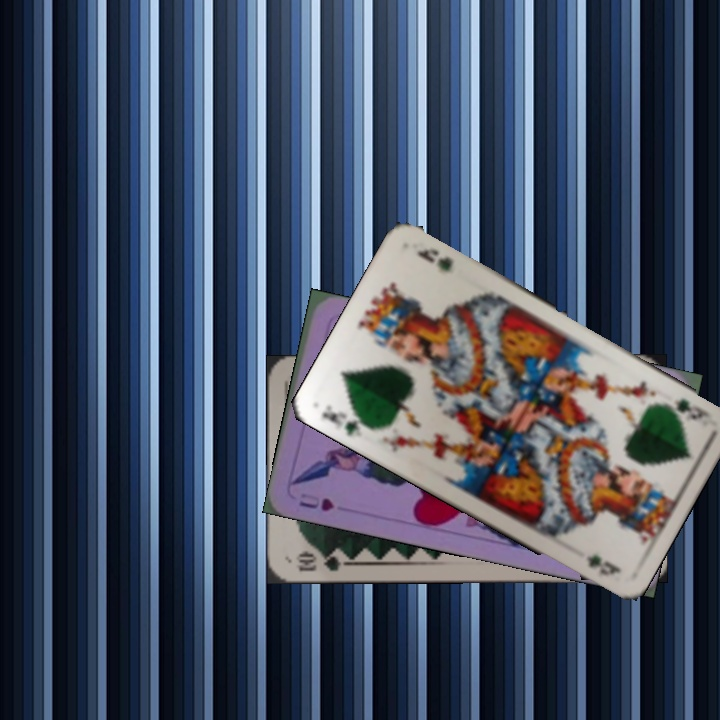G10: (292, 548, 351, 574)
GK: (317, 401, 374, 440), (671, 395, 714, 421)
HU: (295, 489, 337, 514)
